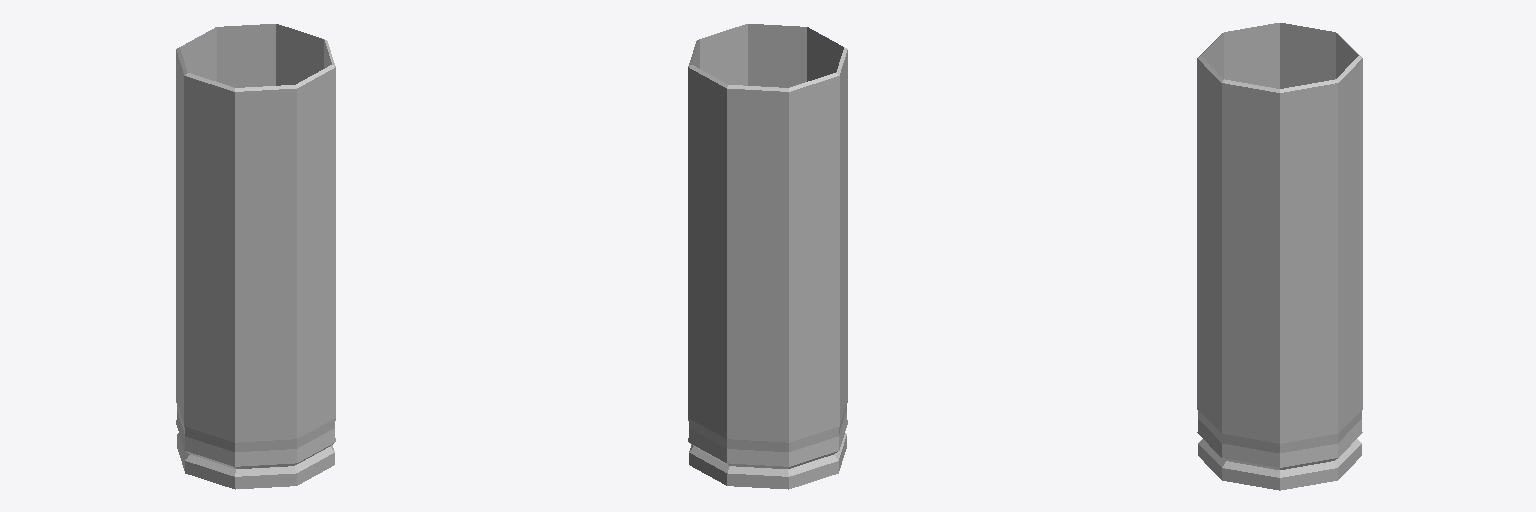
Rendered from rifleBulletShell.obj.
The picture shows the model from 3 angles: view 1: azimuth 30°, elevation 25°; view 2: azimuth 150°, elevation 25°; view 3: azimuth 270°, elevation 25°; orthographic projection.
Visible parts, largest first — view 1: Cylinder_Cylinder.002; view 2: Cylinder_Cylinder.002; view 3: Cylinder_Cylinder.002.
Boxes of the visible parts, <box> form: Cylinder_Cylinder.002: <box>176,24,335,489</box>; Cylinder_Cylinder.002: <box>688,24,847,489</box>; Cylinder_Cylinder.002: <box>1197,23,1362,490</box>.
Size of the model in its own units: 2 by 5.35 by 2.